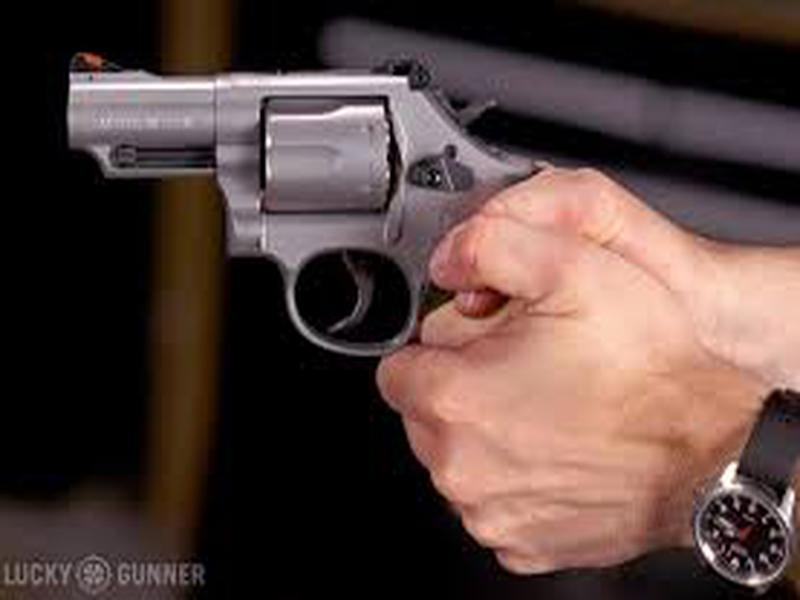gun: (62, 47, 800, 571)
